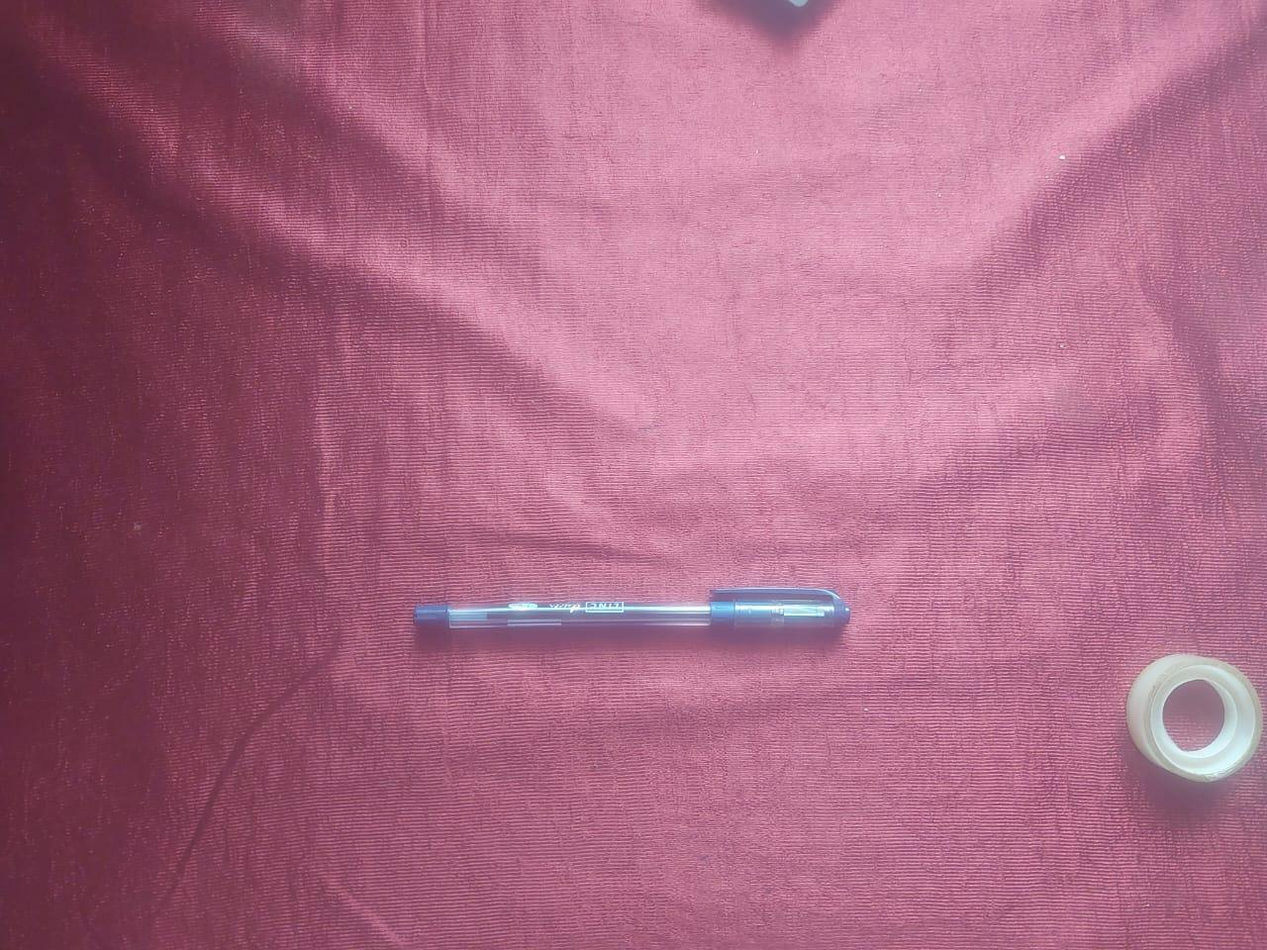pen: (405, 573, 863, 654)
